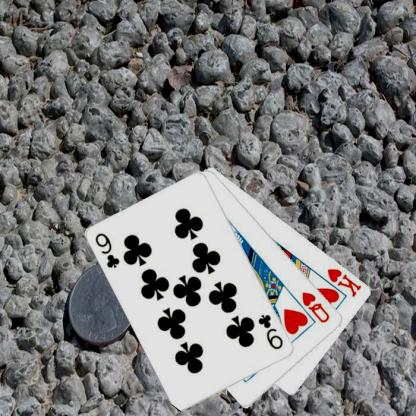9C: (256, 312, 284, 352), (93, 230, 121, 270)
KH: (325, 266, 363, 298)
QH: (300, 289, 332, 324)
